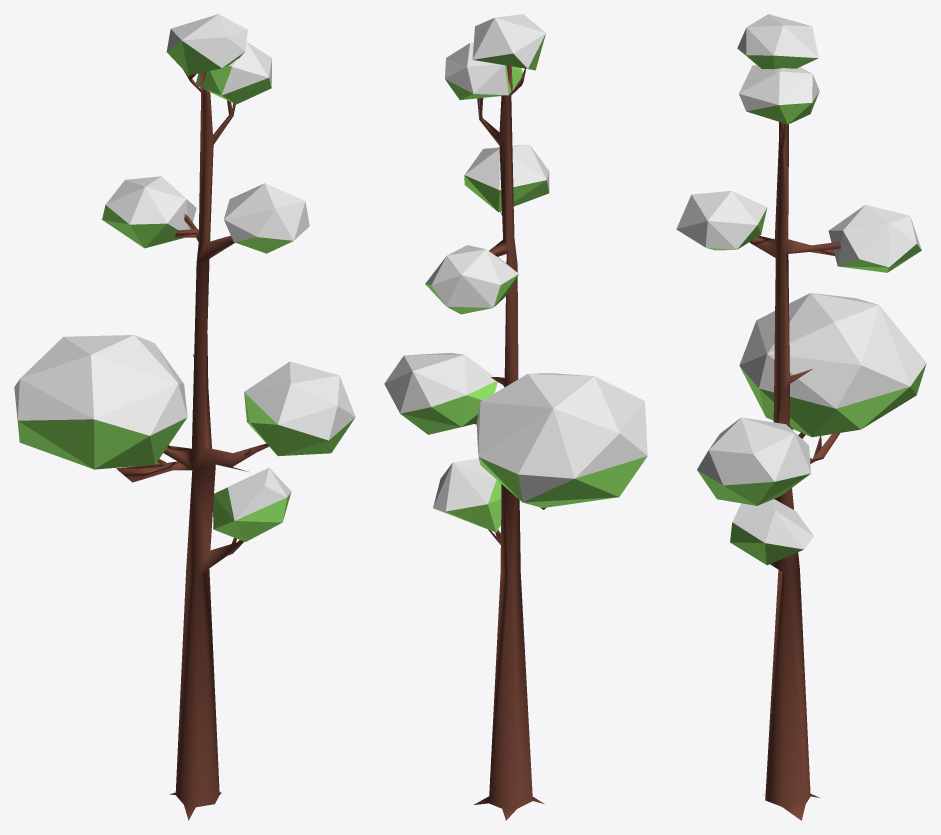
Rendered from SM_WinterTree_A.fbx.
3 renders of one model, left to right at view 1: azimuth 30°, elevation 25°; view 2: azimuth 150°, elevation 25°; view 3: azimuth 270°, elevation 25°, orthographic.
Parts seen in each view (by area): view 1: SM_WinterTree_A; view 2: SM_WinterTree_A; view 3: SM_WinterTree_A.
Boxes of the visible parts, <box> form: SM_WinterTree_A: <box>14,14,355,820</box>; SM_WinterTree_A: <box>384,14,647,820</box>; SM_WinterTree_A: <box>676,14,926,820</box>.
Size of the model in its own units: 177 by 457 by 131.
